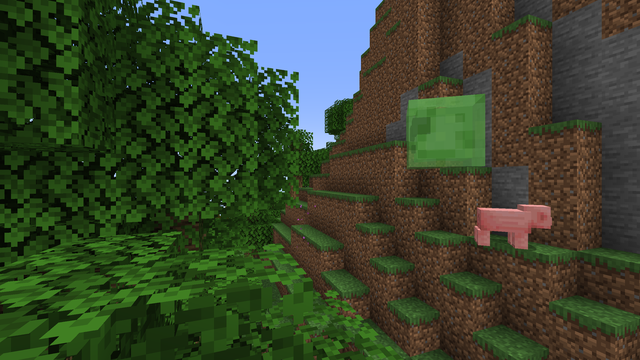cochons: (472, 206, 533, 250)
slimes: (393, 89, 493, 169)
